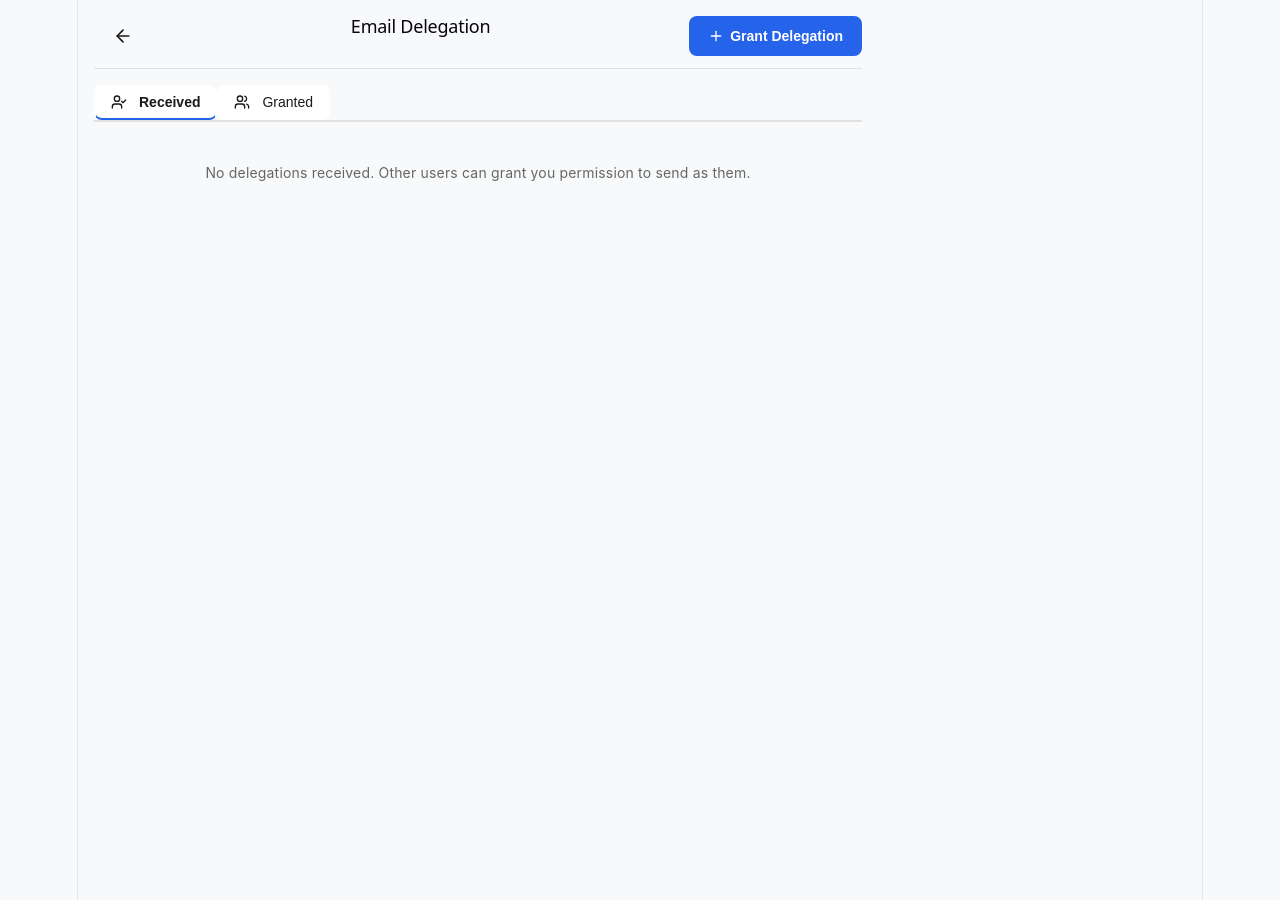
Test: DelegationManager › shows grant form when Grant Delegation is clicked
Click the button "Grant Delegation" at [776, 36], box x1=689 y1=16 x2=862 y2=56
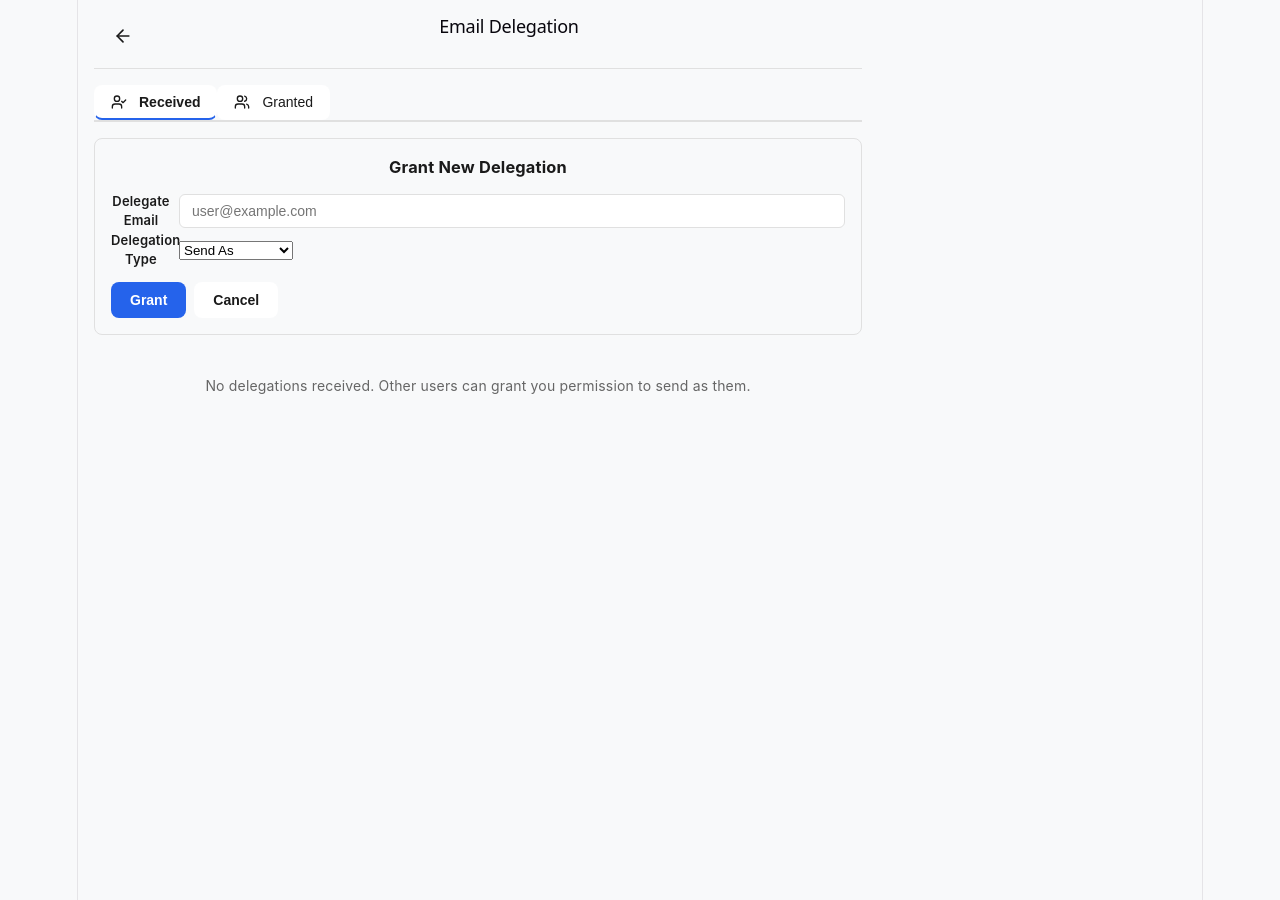
Result: the heading "Grant New Delegation" is shown at x1=389 y1=157 x2=567 y2=177
Result: the field with test id "delegate-email" is shown at x1=179 y1=194 x2=845 y2=228
Result: the dropdown with test id "delegation-type" is shown at x1=179 y1=241 x2=293 y2=260
